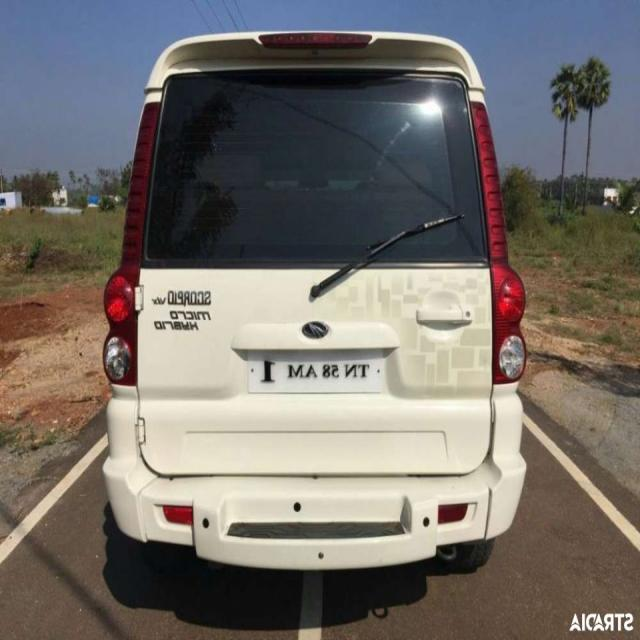number-plate: (253, 349, 384, 393)
